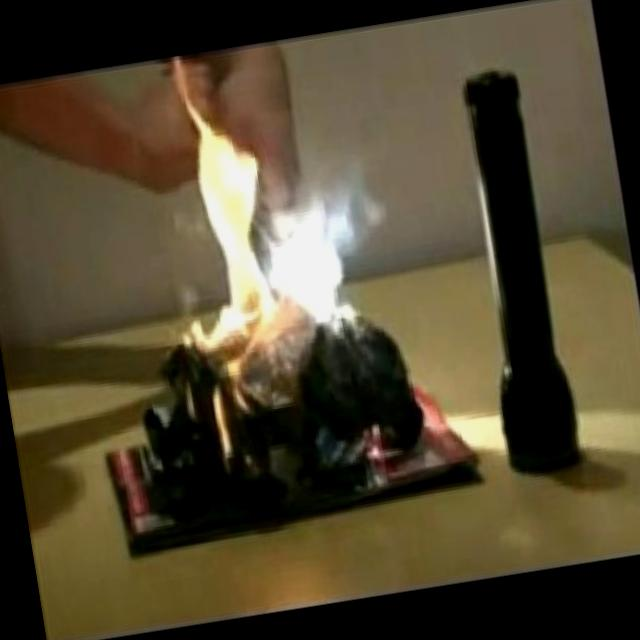fire: (144, 54, 377, 396)
